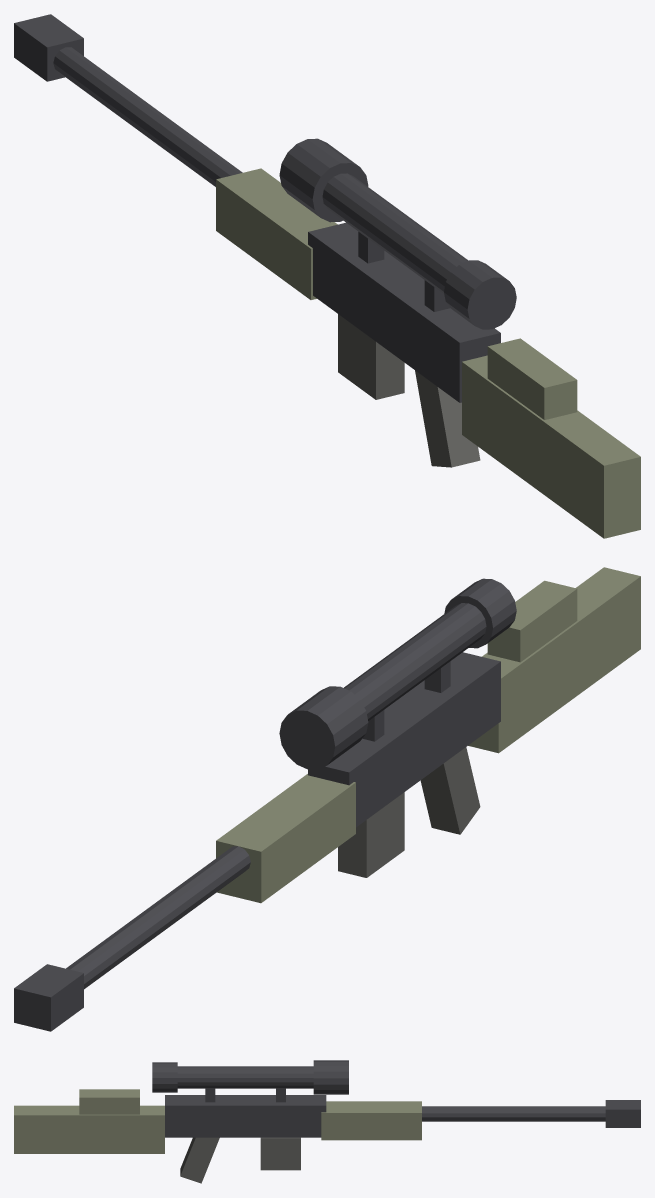
The model's file is heavy_rifle.glb.
3 renders of one model, top to bottom at view 1: azimuth 30°, elevation 25°; view 2: azimuth 150°, elevation 25°; view 3: azimuth 270°, elevation 25°, orthographic. The views are drawn at different scales.
Parts seen in each view (by area): view 1: HeavyRifle; view 2: HeavyRifle; view 3: HeavyRifle.
Part boxes in pixels (left/top/right/bottom): HeavyRifle: left=14, top=14, right=640, bottom=538; HeavyRifle: left=14, top=567, right=640, bottom=1031; HeavyRifle: left=14, top=1060, right=640, bottom=1183.
Bounding box in the file's own units: 0.068 × 0.2584 × 1.25.
